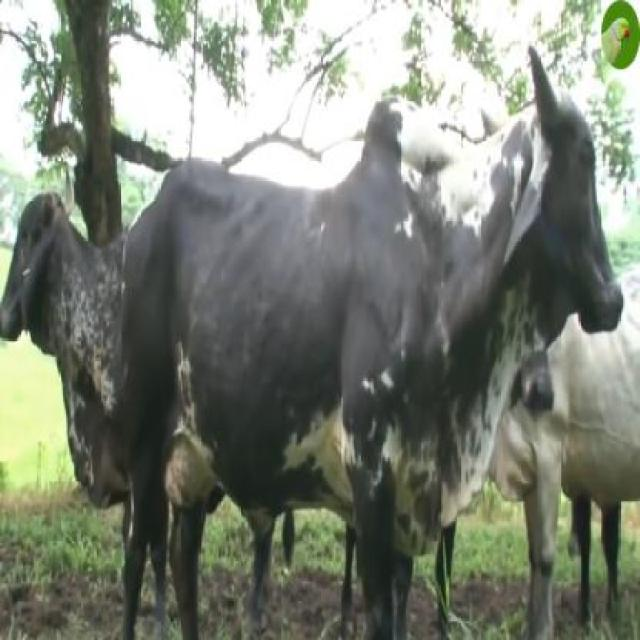Cow: (122, 57, 623, 638)
